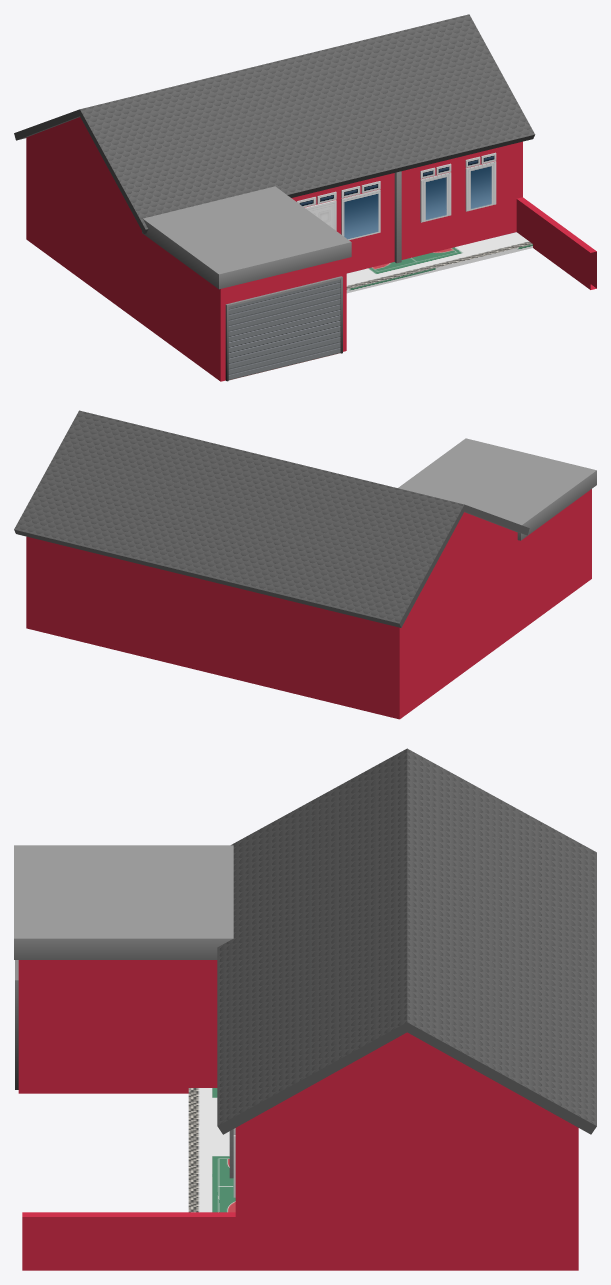
File: Tetangga3.fbx
3 views of the same model, one above another, from view 1: azimuth 30°, elevation 25°; view 2: azimuth 150°, elevation 25°; view 3: azimuth 270°, elevation 25° (orthographic). The views are drawn at different scales.
Visible parts, largest first — view 1: Body1NPCK3_LOD0, Body2NPCK3_LOD0; view 2: Body1NPCK3_LOD0, Body2NPCK3_LOD0; view 3: Body1NPCK3_LOD0, Body2NPCK3_LOD0.
Boxes of the visible parts, x1,y1,x2,y2 form: Body1NPCK3_LOD0: (14,14,596,381); Body2NPCK3_LOD0: (142,171,401,289); Body1NPCK3_LOD0: (14,410,591,719); Body2NPCK3_LOD0: (398,438,596,540); Body1NPCK3_LOD0: (15,748,596,1270); Body2NPCK3_LOD0: (14,845,233,1178).
Size of what is drawn, in the model's own units: 1565 by 673 by 1408.
